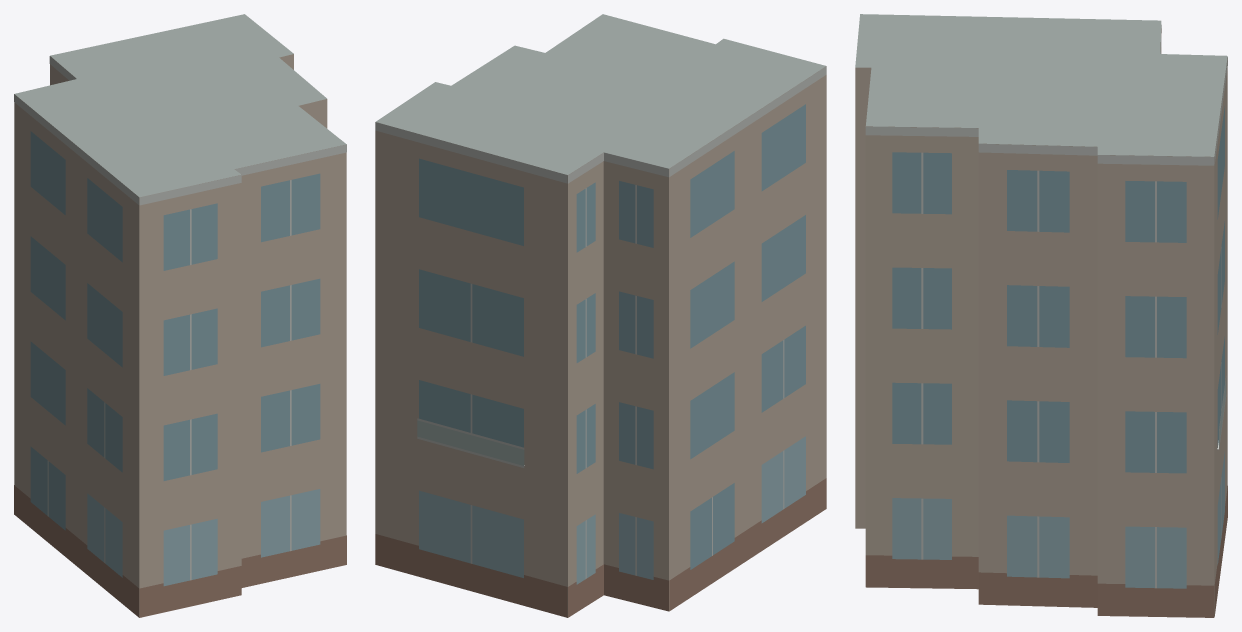
Rendered from survey-upis-32464202.glb.
3 views of the same model, side by side, from view 1: azimuth 30°, elevation 25°; view 2: azimuth 150°, elevation 25°; view 3: azimuth 270°, elevation 25° (orthographic). The views are drawn at different scales.
Parts seen in each view (by area): view 1: survey-upis-32464202.tmp; view 2: survey-upis-32464202.tmp; view 3: survey-upis-32464202.tmp.
Boxes of the visible parts, x1,y1,x2,y2 form: survey-upis-32464202.tmp: (14, 14, 346, 617); survey-upis-32464202.tmp: (375, 14, 826, 617); survey-upis-32464202.tmp: (855, 14, 1227, 617).
Size of the model in its own units: 8.38 by 12.6 by 9.24.
